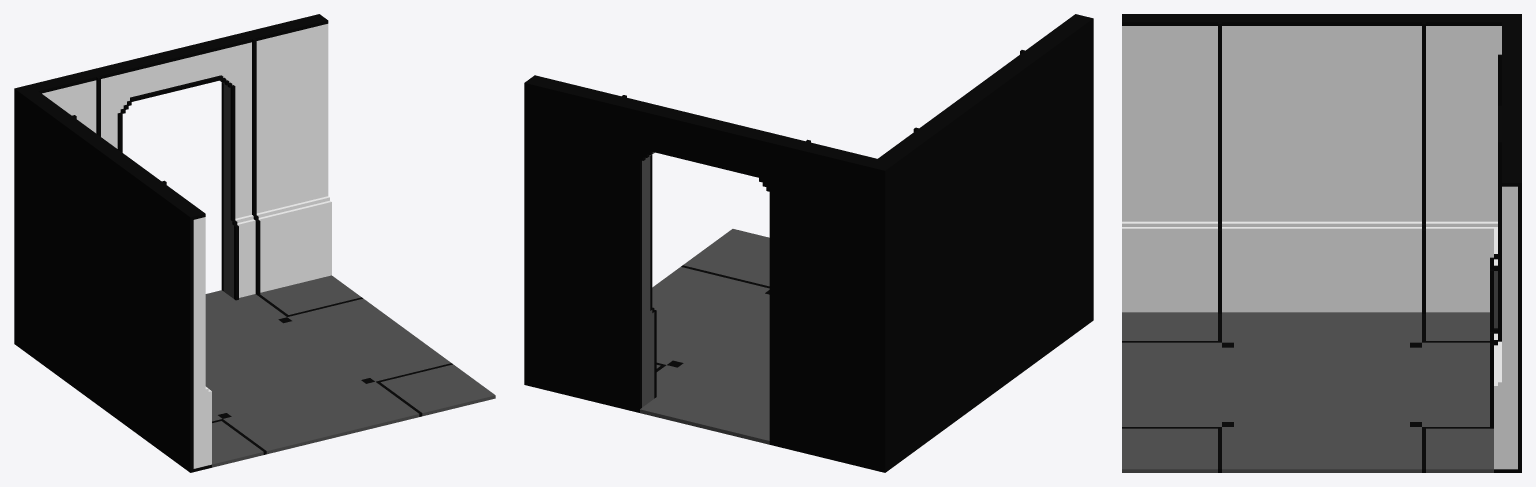
Rendered from Door Corner 2.obj.
The picture shows the model from 3 angles, left to right: view 1: azimuth 30°, elevation 25°; view 2: azimuth 150°, elevation 25°; view 3: azimuth 270°, elevation 25°; orthographic projection. The views are drawn at different scales.
Bounding box in the file's own units: 10 × 8 × 10.
